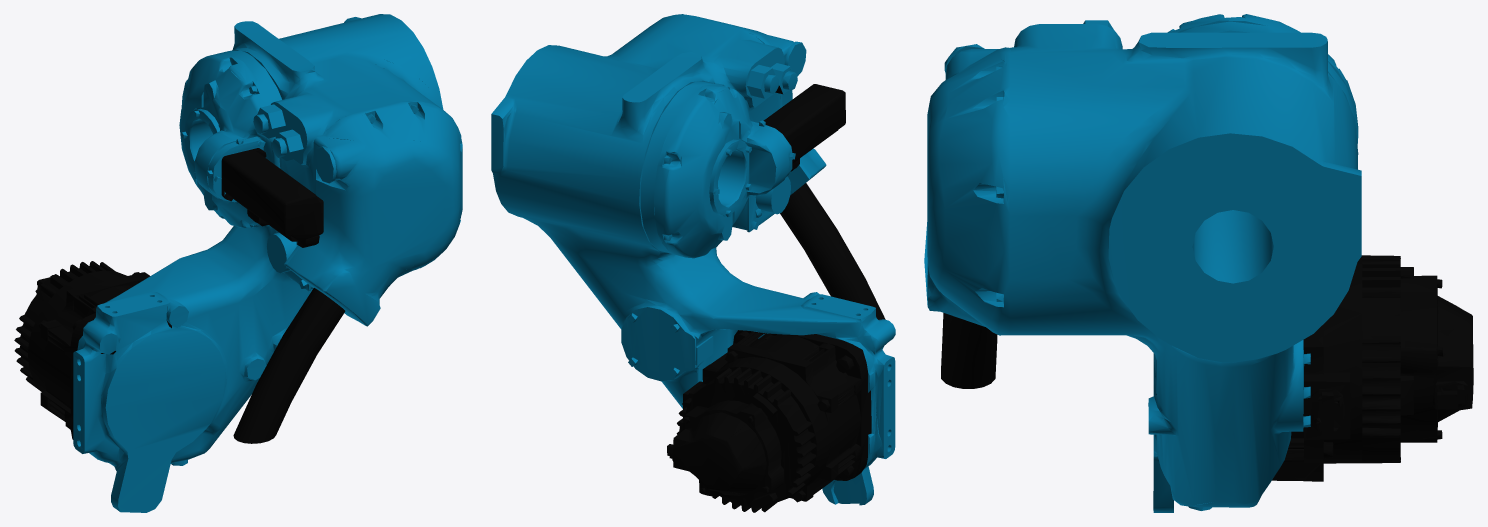
3 renders of one model, left to right at view 1: azimuth 30°, elevation 25°; view 2: azimuth 150°, elevation 25°; view 3: azimuth 270°, elevation 25°, orthographic. The views are drawn at different scales.
Parts seen in each view (by area): view 1: f_1-06vxh12-a00_lk3; view 2: f_1-06vxh12-a00_lk3; view 3: f_1-06vxh12-a00_lk3.
Part boxes in pixels (left/top/right/bottom): f_1-06vxh12-a00_lk3: left=14, top=14, right=462, bottom=512; f_1-06vxh12-a00_lk3: left=491, top=14, right=895, bottom=512; f_1-06vxh12-a00_lk3: left=924, top=14, right=1473, bottom=512.
Size of the model in its own units: 0.3401 by 0.3379 by 0.392.
